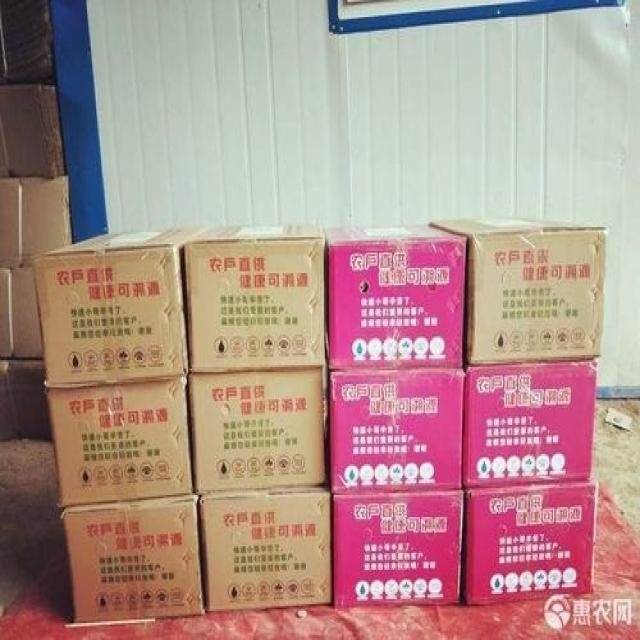box: (32, 224, 207, 389), (430, 217, 605, 367), (182, 218, 326, 372), (324, 224, 467, 374), (47, 377, 193, 510), (60, 493, 206, 625), (323, 369, 465, 497), (462, 471, 598, 604), (463, 358, 599, 490), (197, 483, 333, 614), (187, 367, 326, 493), (332, 492, 465, 609), (0, 84, 65, 177), (0, 0, 56, 85), (19, 176, 72, 263), (8, 357, 52, 444), (12, 263, 44, 360), (0, 176, 23, 268), (0, 357, 15, 440), (0, 268, 13, 358), (0, 96, 10, 179), (0, 3, 8, 82)
